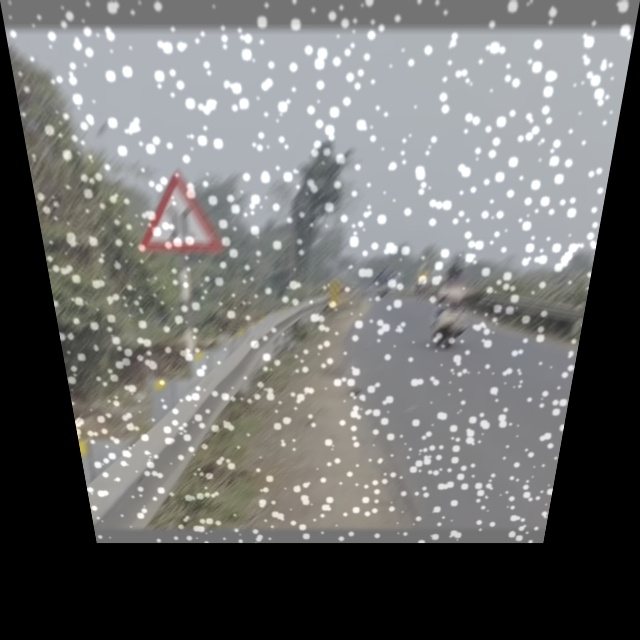Narrow_Bridge: (136, 171, 225, 254)
